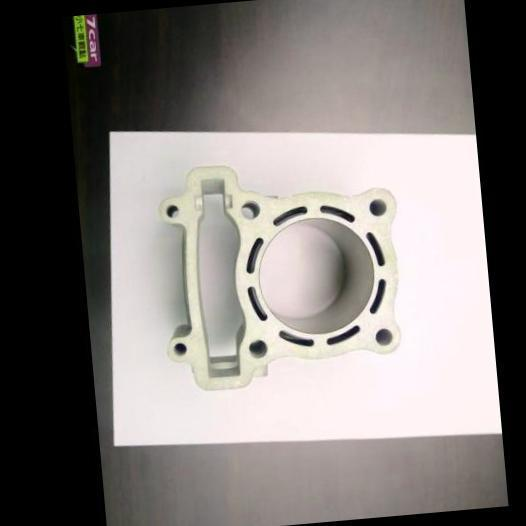hole: (237, 197, 262, 221), (246, 336, 268, 360), (372, 326, 394, 348), (366, 197, 387, 219), (164, 202, 182, 217), (170, 342, 188, 357)
